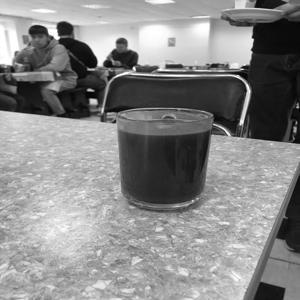coffee: (103, 87, 220, 225)
